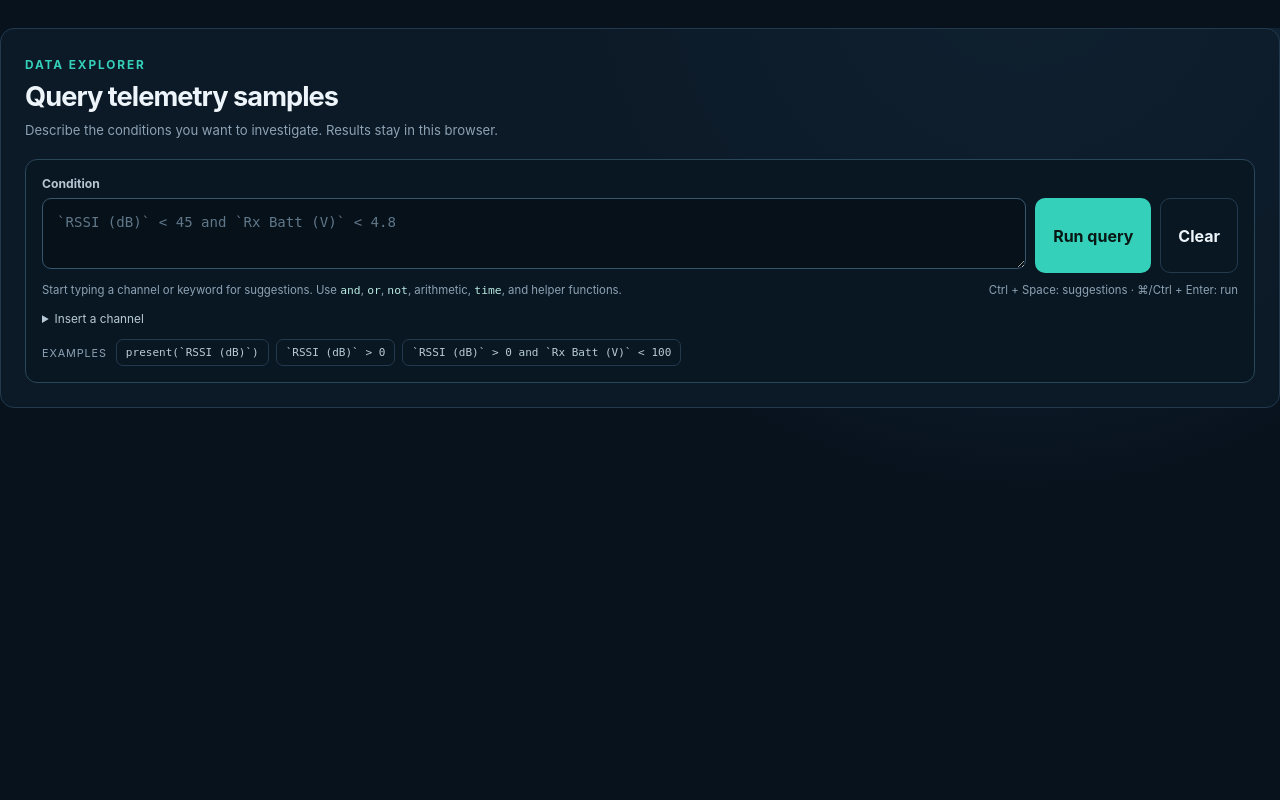
Test: TelemetryQuery › runs a query and presents matching rows
Type "`RSSI` < 45 and `Rx Batt` < 4.8" into the dropdown labelled "Condition".
click(534, 234); type("`RSSI` < 45 and `Rx Batt` < 4.8")  # box 42,198 -> 1026,269
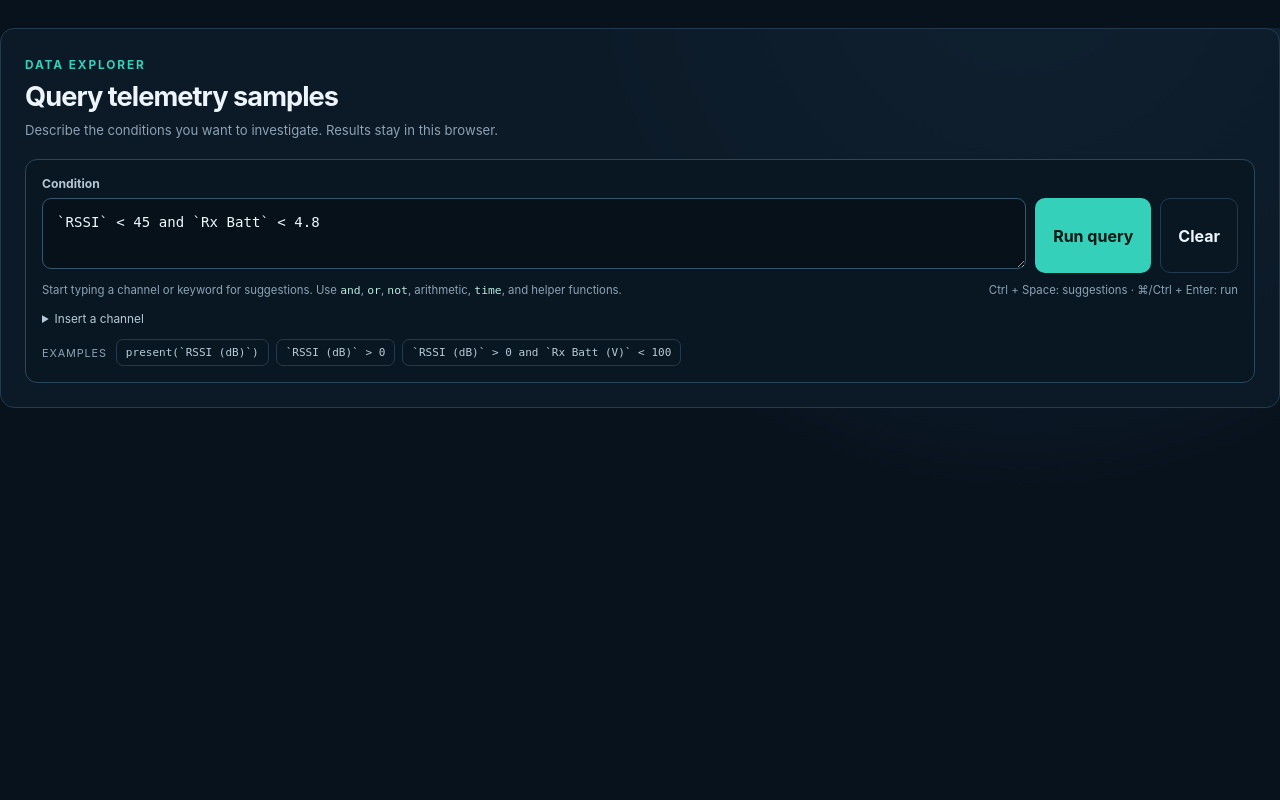
Click the button "Run query".
click(1093, 236)  # box 1035,198 -> 1151,273
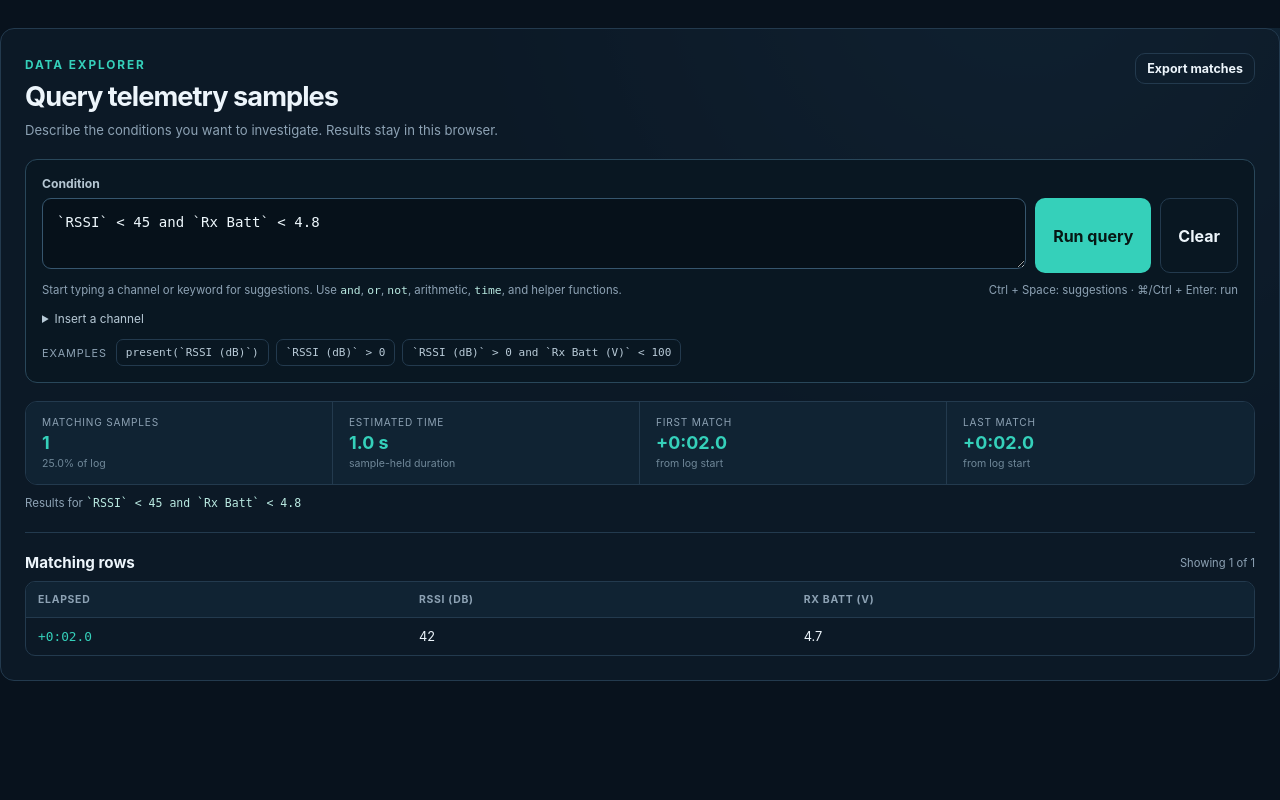
Expected: the text "1" is shown, 42,432 -> 50,453
Expected: the text "25.0% of log" is shown, 42,457 -> 106,470
Expected: the heading "Matching rows" is shown, 25,553 -> 135,572
